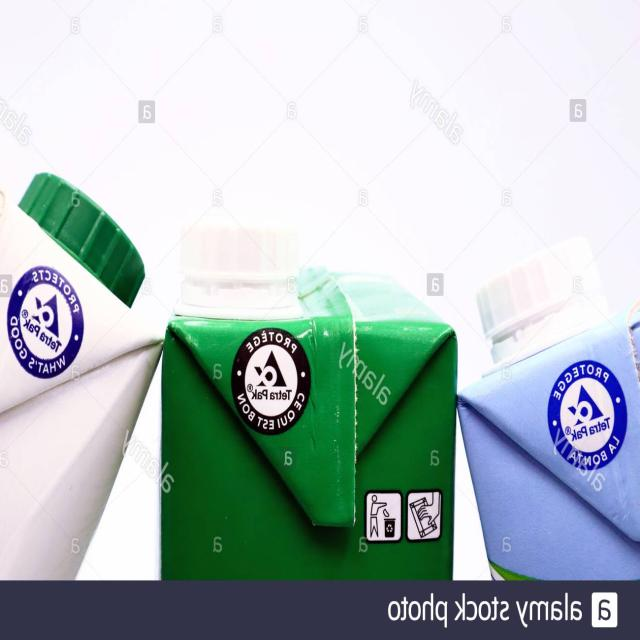cardboard: (161, 216, 456, 581), (0, 170, 158, 580), (457, 230, 640, 579)
